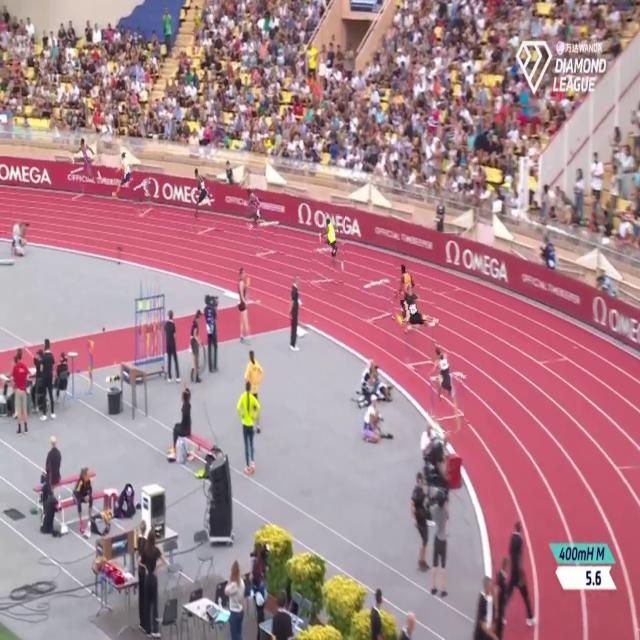athlete: (430, 340, 463, 433), (393, 286, 438, 331), (70, 135, 106, 184), (316, 214, 345, 271), (190, 163, 211, 219), (114, 146, 134, 201), (395, 259, 420, 300), (242, 184, 264, 228)
hurdle: (426, 372, 471, 426), (308, 244, 344, 292), (360, 273, 391, 323), (403, 321, 435, 359), (192, 194, 218, 240), (256, 215, 280, 259), (131, 178, 153, 219), (68, 165, 88, 202)
